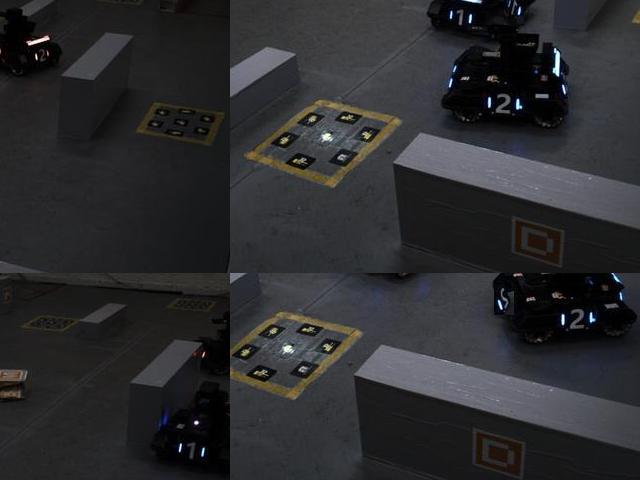armor: (485, 90, 524, 121), (558, 304, 598, 331), (174, 437, 210, 465), (445, 3, 477, 34), (495, 281, 516, 317), (504, 0, 527, 27), (30, 46, 53, 66), (0, 41, 7, 65)
